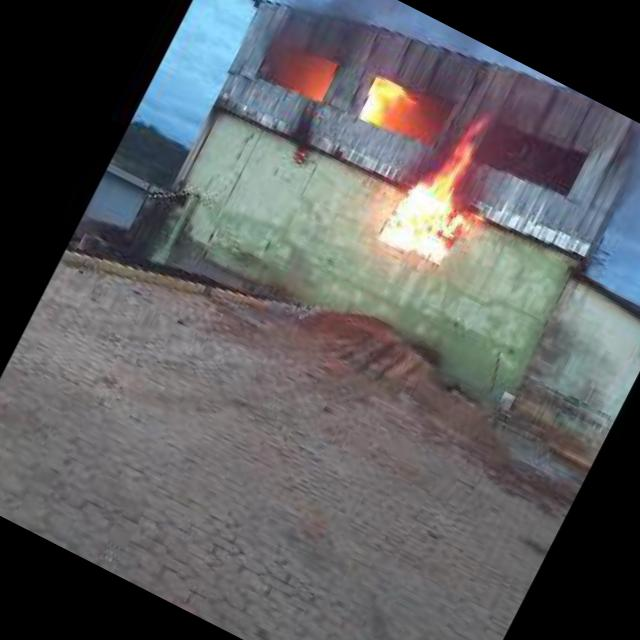fire: (374, 94, 529, 279), (355, 74, 426, 140)
smoke: (371, 3, 640, 230), (262, 0, 405, 88)
